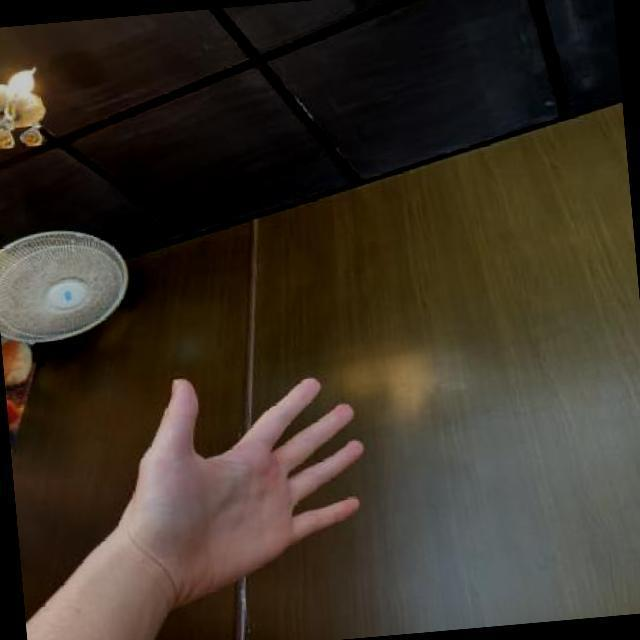hand: (122, 372, 364, 600)
